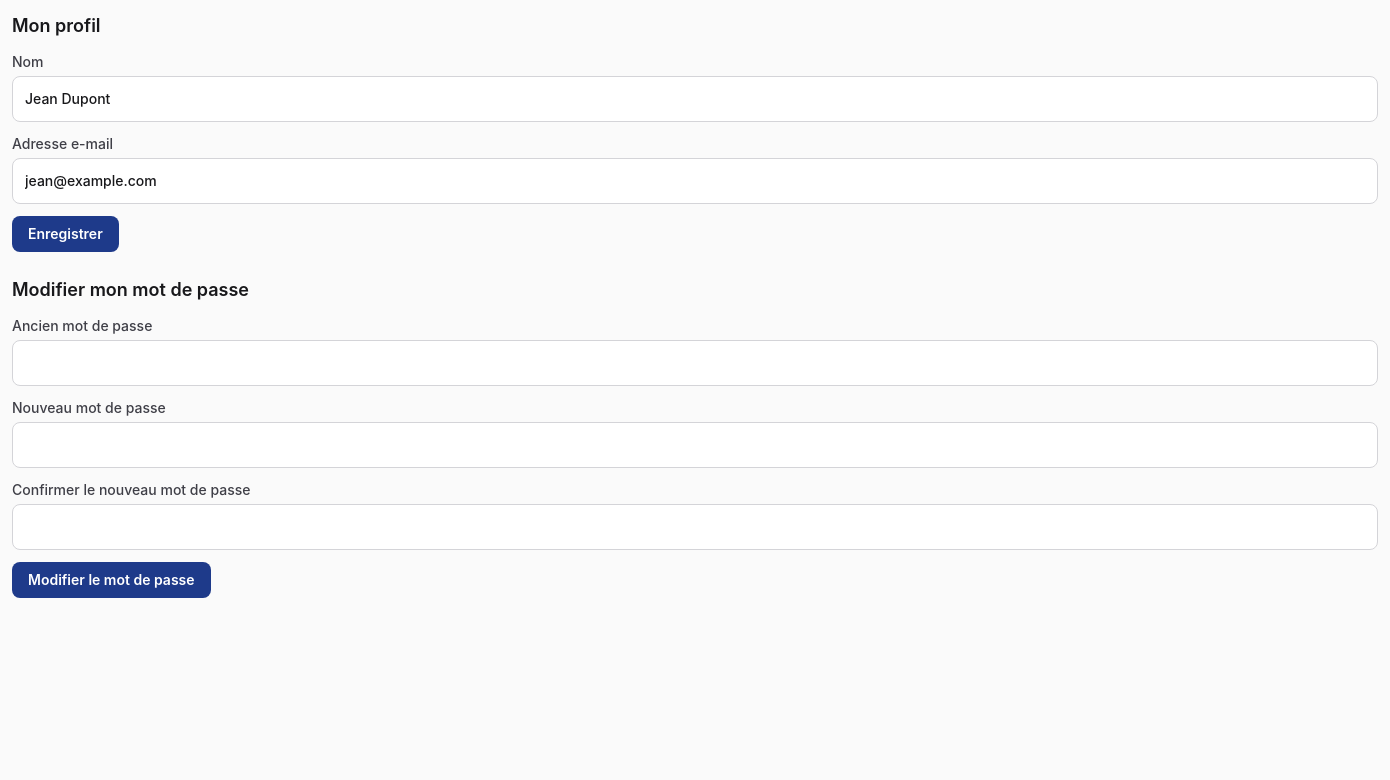
ProfilUtilisateur › n'appelle rien quand aucune information n'a changé
Expected: the field labelled "Nom" is shown, [12,76,1378,122]
Click the button "Enregistrer": x=65, y=234 [12,216,119,252]
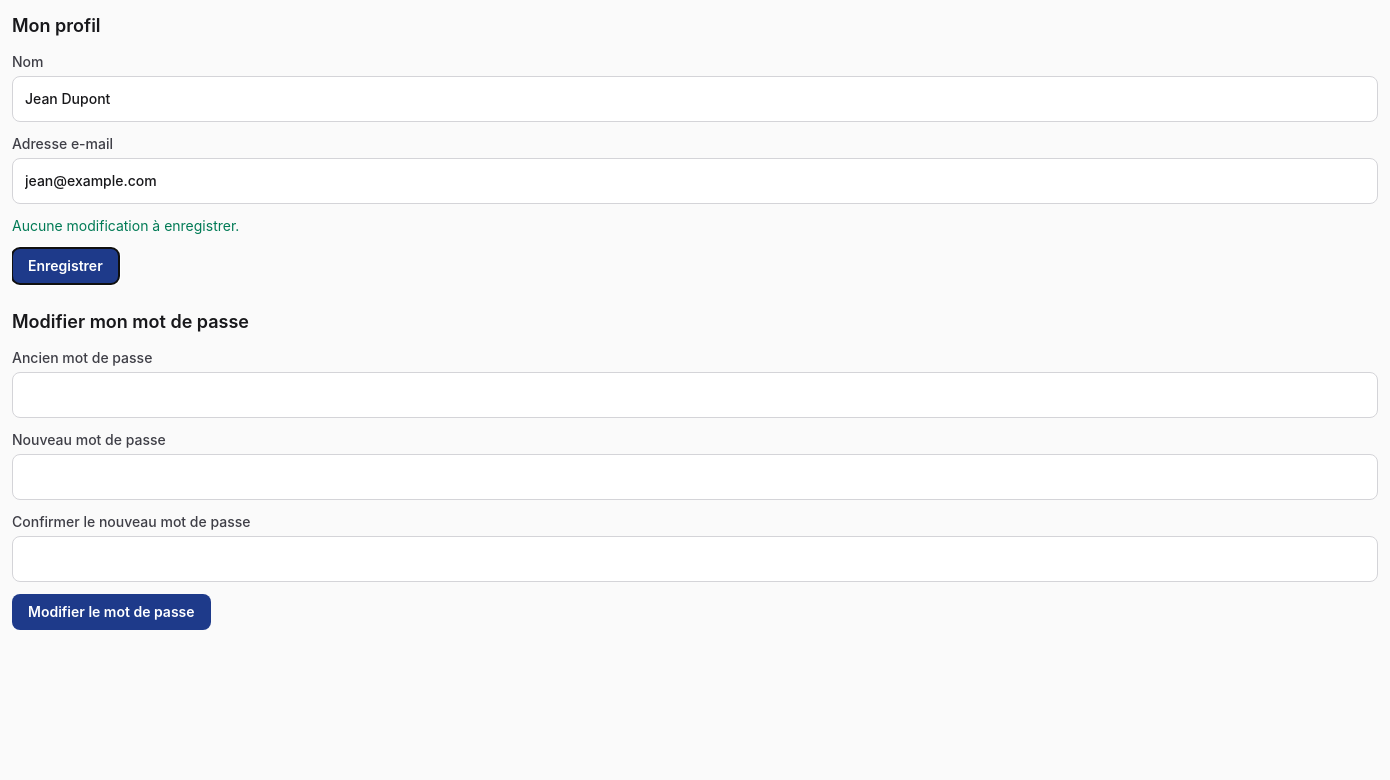
Result: the text "Aucune modification à enregistrer." is shown at [12,217,239,234]
